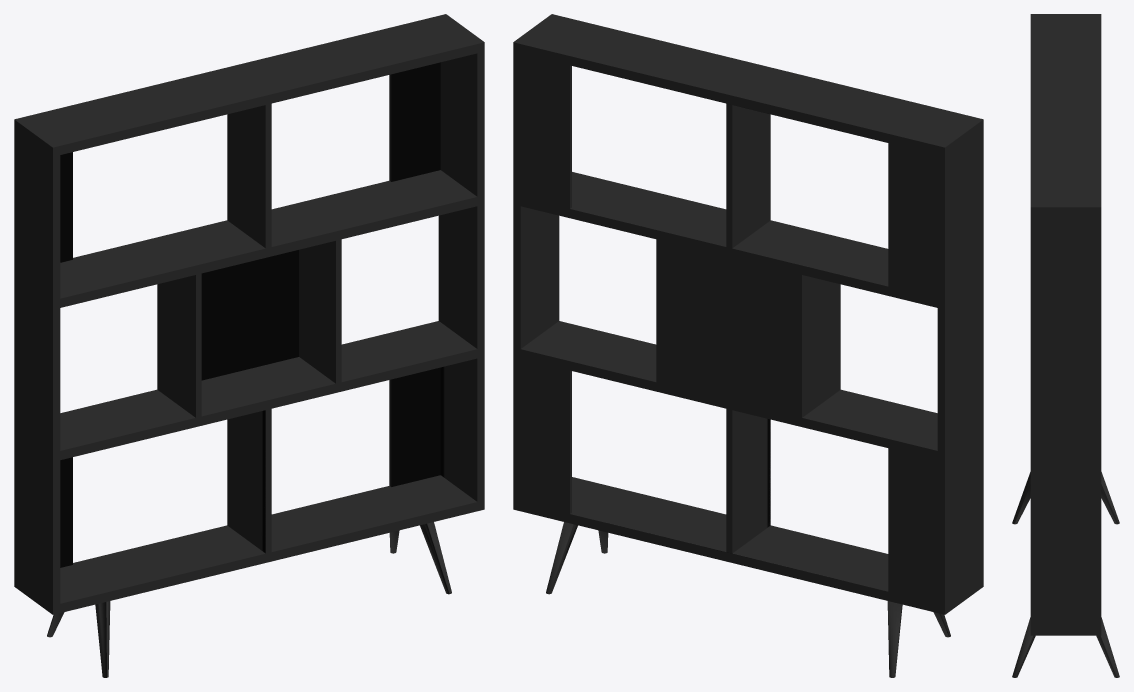
The model's file is Estanteria guayNegra.fbx.
3 views of the same model, side by side, from view 1: azimuth 30°, elevation 25°; view 2: azimuth 150°, elevation 25°; view 3: azimuth 270°, elevation 25° (orthographic). The views are drawn at different scales.
Parts seen in each view (by area): view 1: estantes; view 2: estantes; view 3: estantes.
Boxes of the visible parts, box(x1,y1,x2,y2) form: estantes: box(14, 14, 484, 677); estantes: box(513, 14, 983, 677); estantes: box(1012, 14, 1119, 677).
Size of the model in its own units: 184 by 217 by 43.33.
